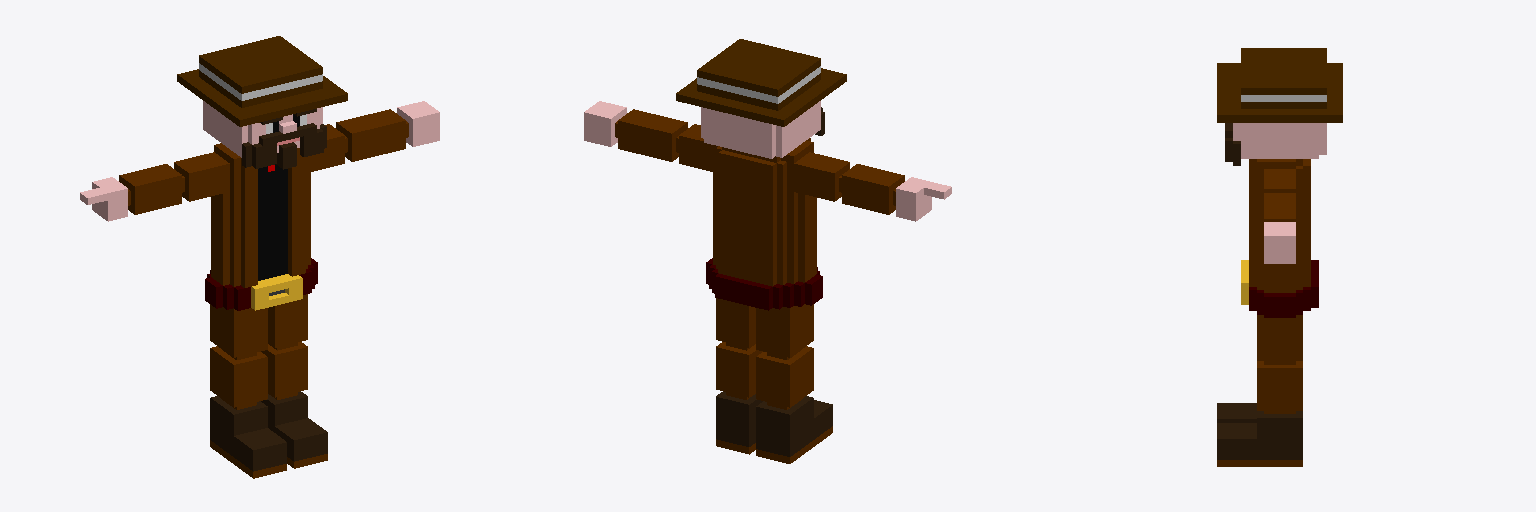
3 renders of one model, left to right at view 1: azimuth 30°, elevation 25°; view 2: azimuth 150°, elevation 25°; view 3: azimuth 270°, elevation 25°, orthographic.
Visible parts, largest first — view 1: object 1; view 2: object 1; view 3: object 1.
Boxes of the visible parts, box(x1,y1,x2,y2) form: object 1: box(80, 36, 439, 478); object 1: box(584, 39, 951, 463); object 1: box(1217, 48, 1342, 466).
Bounding box in the file's own units: 5.2 × 5.4 × 1.6.
1 materials, 1 textured.